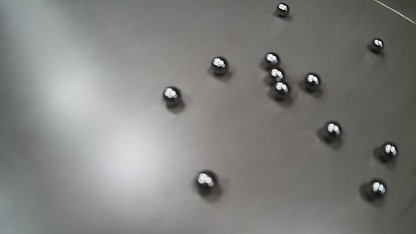ironball: (365, 178, 386, 200), (195, 170, 218, 190), (322, 120, 342, 142), (162, 86, 182, 107), (378, 142, 397, 162), (210, 56, 229, 75), (303, 72, 321, 92), (272, 81, 290, 100), (263, 52, 280, 68), (370, 38, 384, 53), (270, 68, 285, 82), (276, 3, 289, 17)
